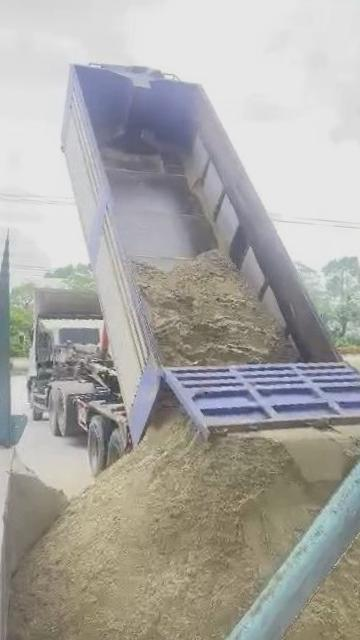sand: (12, 381, 335, 640), (222, 511, 360, 640), (139, 253, 293, 364), (258, 425, 360, 501), (7, 465, 69, 569)
